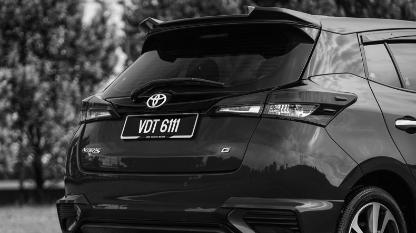license plate: (118, 111, 199, 142)
